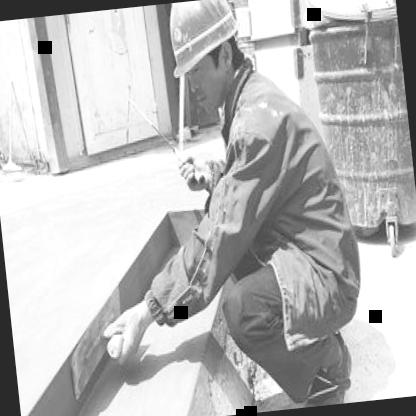helmet: (160, 0, 250, 116)
